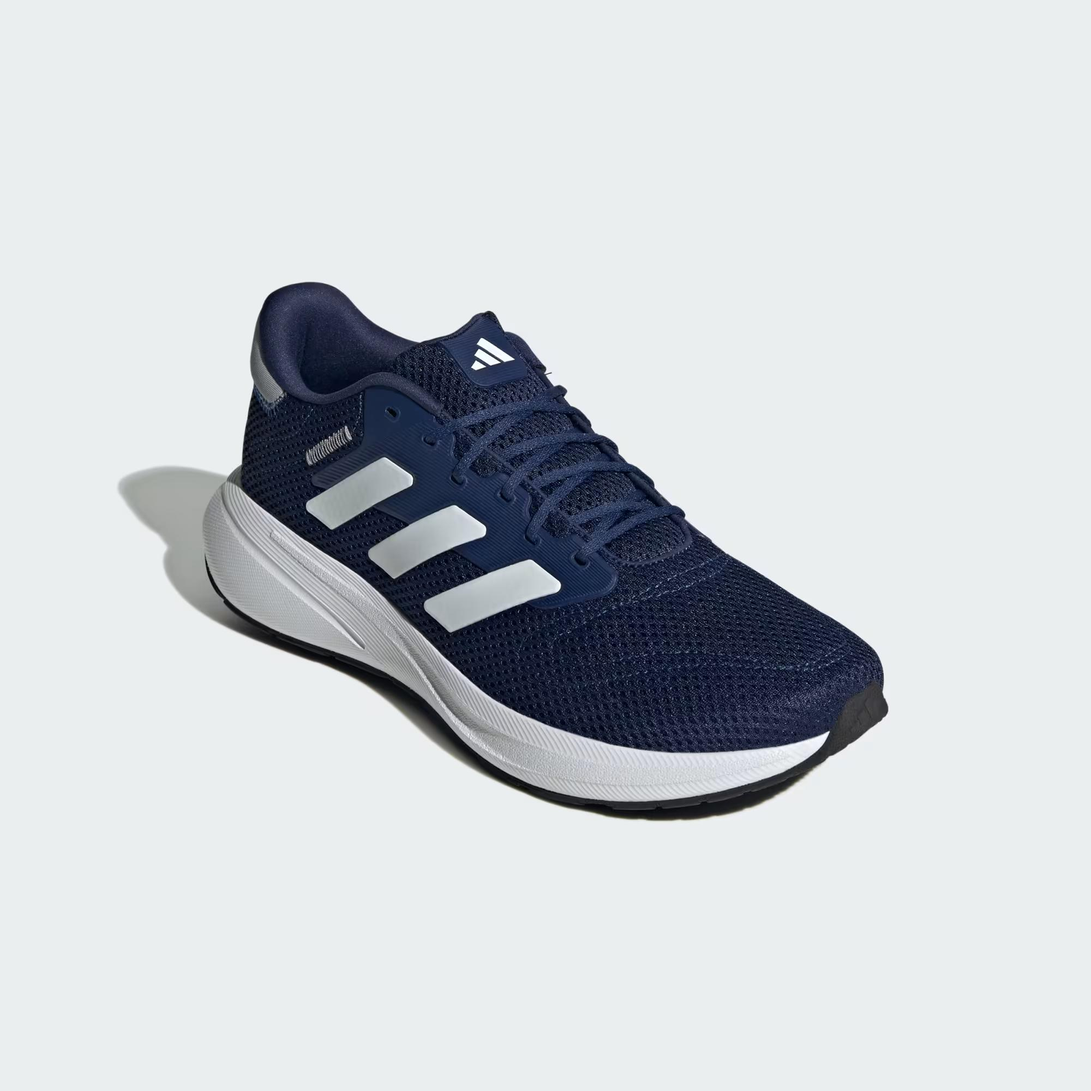marca: (296, 433, 572, 653), (450, 328, 527, 392)
shoe: (199, 268, 893, 823)
